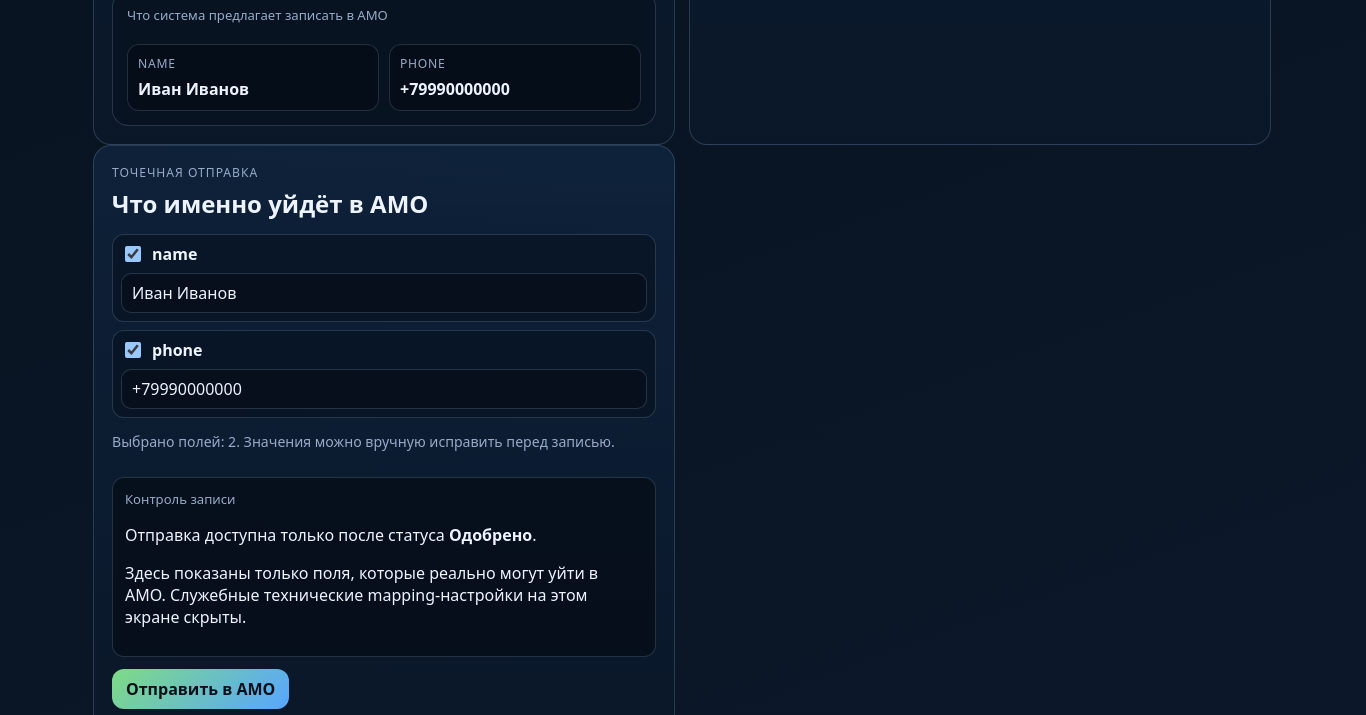
it: App integration › renders crm route and sends selected preview
(page scrolled)
Step 1. Click the button "Отправить в AMO" → (201, 689), box [112, 669, 289, 709]
(page scrolled)
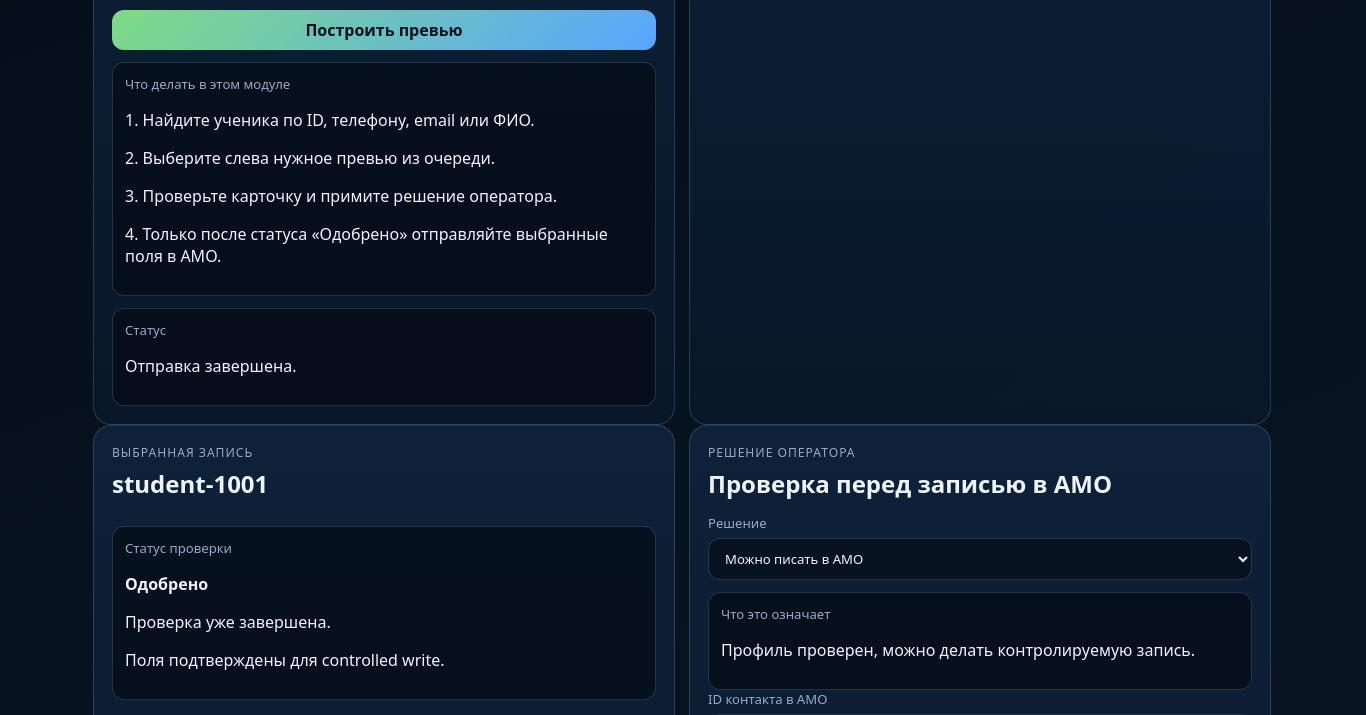
Result: the text "Отправка завершена." is shown at [125, 355, 296, 377]
